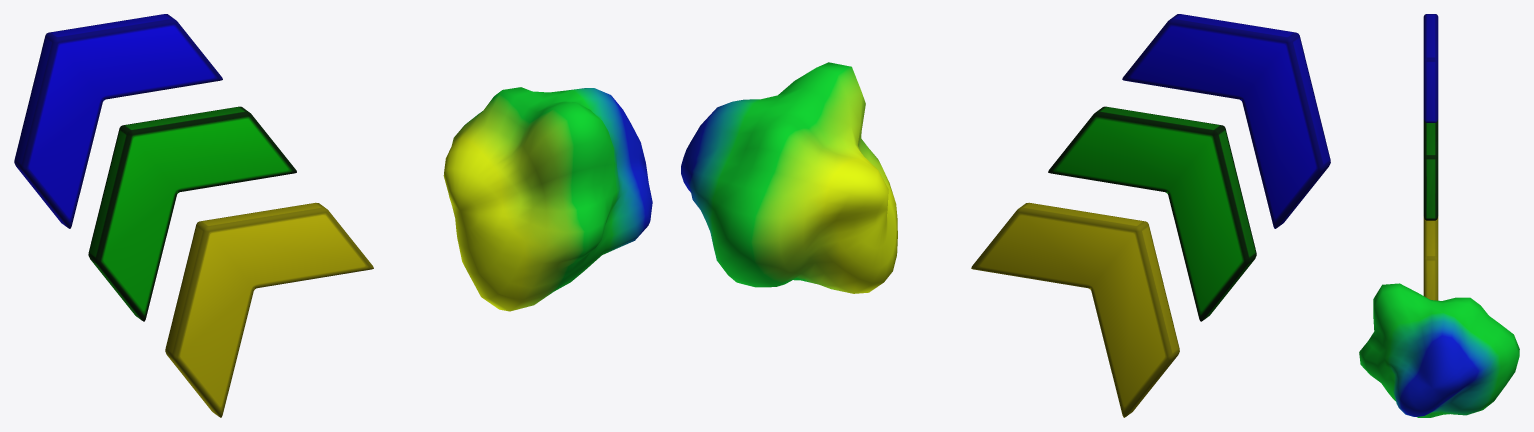
Rendered from Power ups.fbx.
3 renders of one model, left to right at view 1: azimuth 30°, elevation 25°; view 2: azimuth 150°, elevation 25°; view 3: azimuth 270°, elevation 25°, orthographic. The views are drawn at different scales.
Parts seen in each view (by area): view 1: Speed Arrows, Slime ball; view 2: Speed Arrows, Slime ball; view 3: Slime ball, Speed Arrows.
Boxes of the visible parts, x1,y1,x2,y2 form: Speed Arrows: (14, 14, 373, 417); Slime ball: (443, 87, 652, 311); Speed Arrows: (971, 14, 1330, 417); Slime ball: (681, 62, 897, 293); Slime ball: (1359, 283, 1519, 417); Speed Arrows: (1423, 14, 1438, 300).
Bounding box in the file's own units: 182 × 116 × 60.3.
